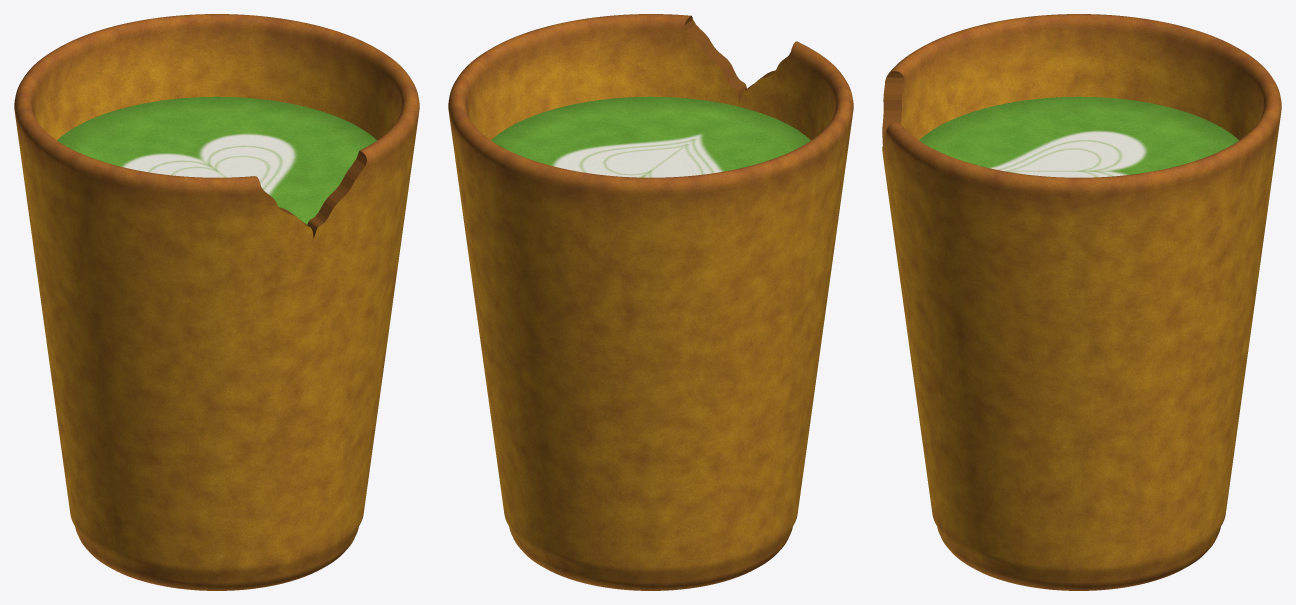
The model's file is cup.glb.
3 renders of one model, left to right at view 1: azimuth 30°, elevation 25°; view 2: azimuth 150°, elevation 25°; view 3: azimuth 270°, elevation 25°, orthographic.
Visible parts, largest first — view 1: Cup, Latte; view 2: Cup, Latte; view 3: Cup, Latte.
Part boxes in pixels (bbox=[...]): Cup: bbox=[14, 14, 419, 590]; Latte: bbox=[57, 96, 376, 224]; Cup: bbox=[448, 14, 853, 590]; Latte: bbox=[491, 96, 810, 177]; Cup: bbox=[882, 14, 1281, 590]; Latte: bbox=[919, 96, 1238, 177].
Size of the model in its own units: 1.7 by 2.05 by 1.68.
Materials: 2 (2 with a texture image).
